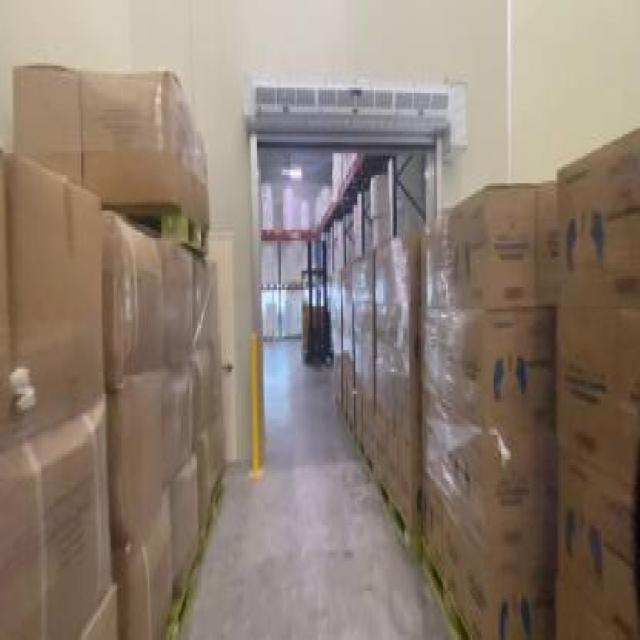box: (2, 63, 226, 637), (422, 180, 558, 638), (551, 120, 638, 638), (328, 230, 424, 569)
robot: (298, 235, 336, 372)
white_roll: (386, 156, 420, 235), (368, 164, 388, 246), (352, 189, 372, 254), (332, 210, 351, 260), (260, 180, 277, 230), (328, 150, 343, 200), (283, 292, 299, 336), (282, 184, 296, 232), (283, 244, 297, 288), (262, 244, 276, 288), (263, 301, 279, 339), (312, 183, 330, 216), (298, 197, 310, 230)
